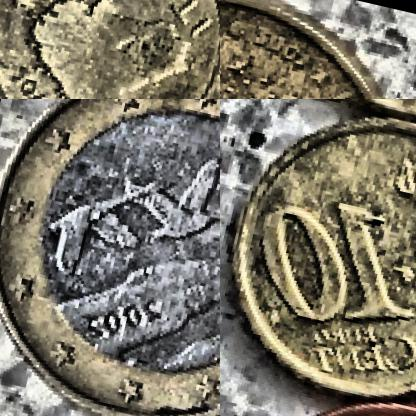coin: (0, 99, 219, 415), (220, 99, 415, 415), (0, 0, 219, 98), (220, 0, 415, 98)
